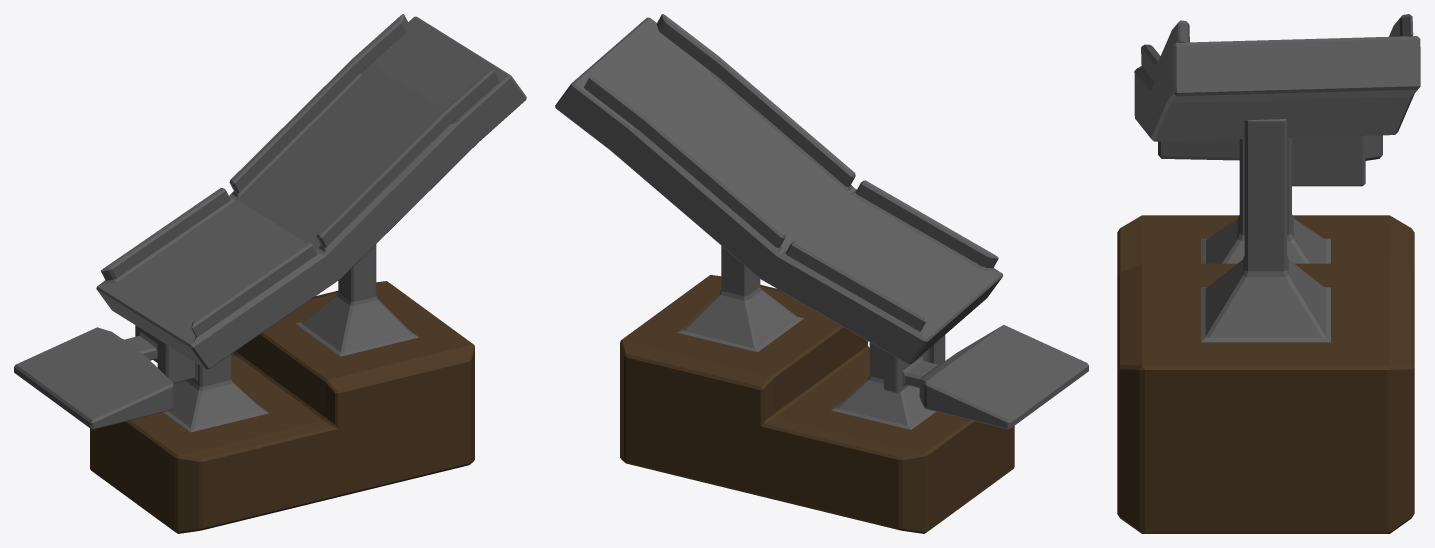
Rendered from OperatingChair.fbx.
3 views of the same model, side by side, from view 1: azimuth 30°, elevation 25°; view 2: azimuth 150°, elevation 25°; view 3: azimuth 270°, elevation 25° (orthographic). The views are drawn at different scales.
Visible parts, largest first — view 1: Cube; view 2: Cube; view 3: Cube.
Part boxes in pixels (<box>): Cube: <box>14,14,526,533</box>; Cube: <box>555,14,1088,533</box>; Cube: <box>1117,14,1420,533</box>.
Bounding box in the file's own units: 590 × 476 × 245.
